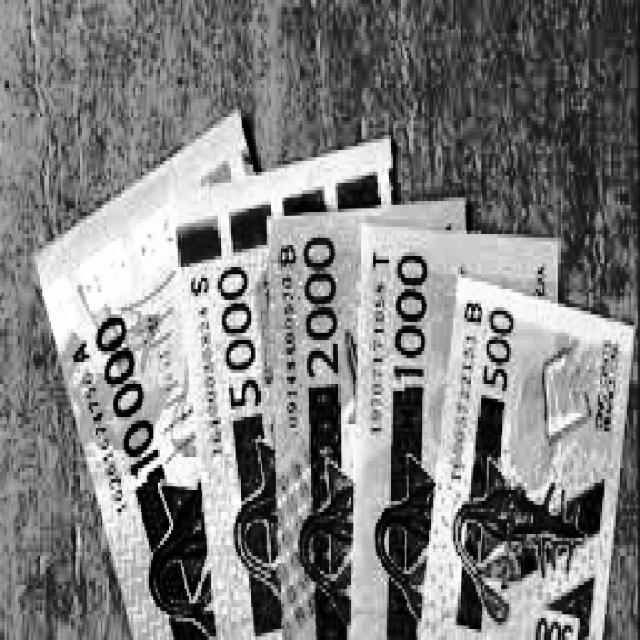junni: (176, 140, 391, 638)
niaar junni: (38, 114, 252, 634)
niaar teemeer: (351, 214, 556, 638)
nient teemeer: (271, 205, 450, 638)
teemeer: (419, 278, 632, 638)
